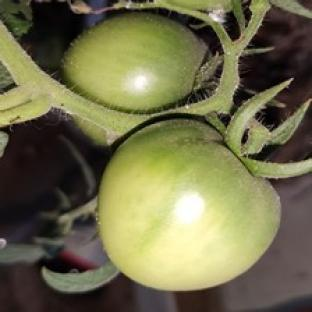Tomato: (99, 120, 279, 291), (63, 13, 207, 112)
